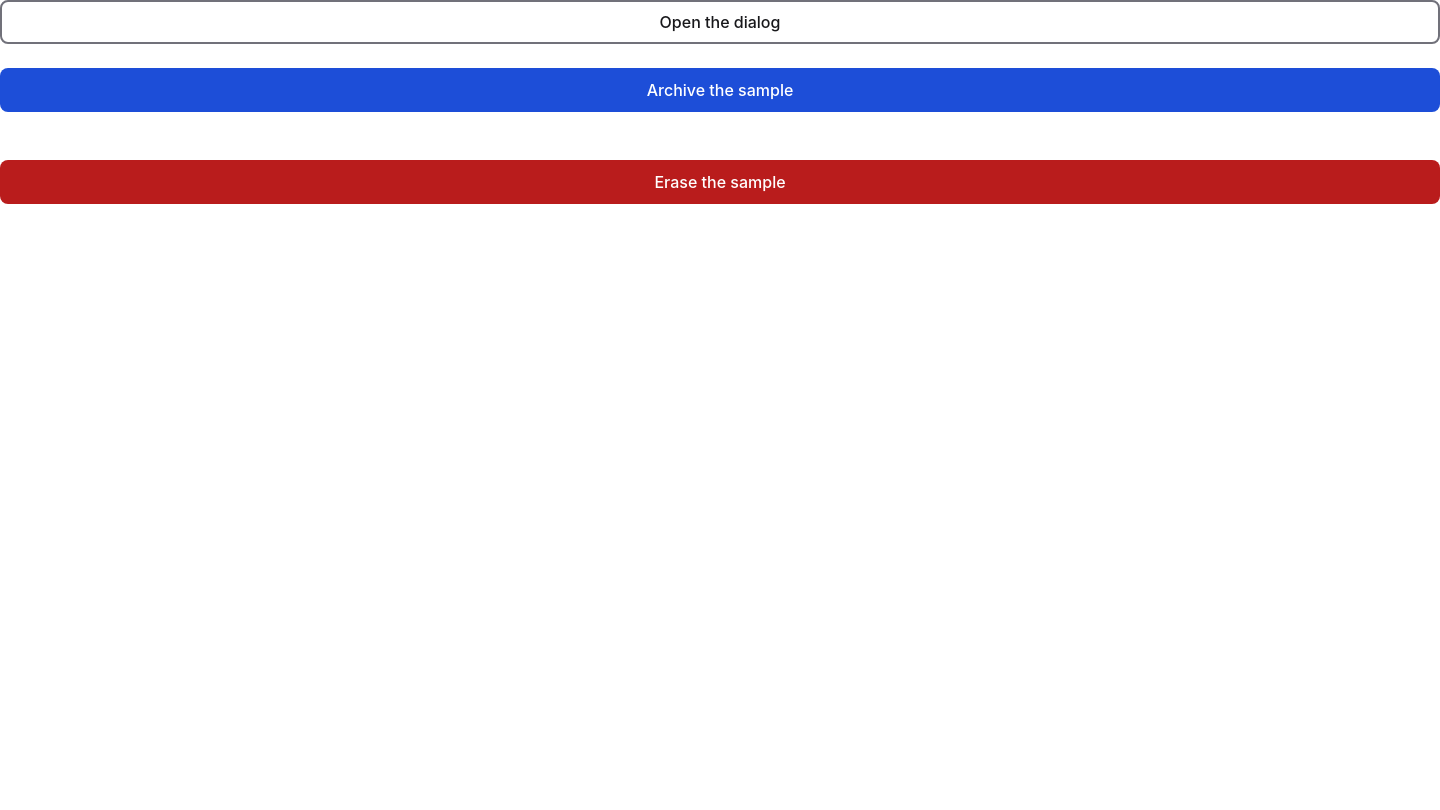
Test case: DialogSamples › runs the erasing action once both of its questions are agreed to
The image size is (1440, 810).
Click the button "Erase the sample".
click(720, 182)  # box [0,160,1439,204]
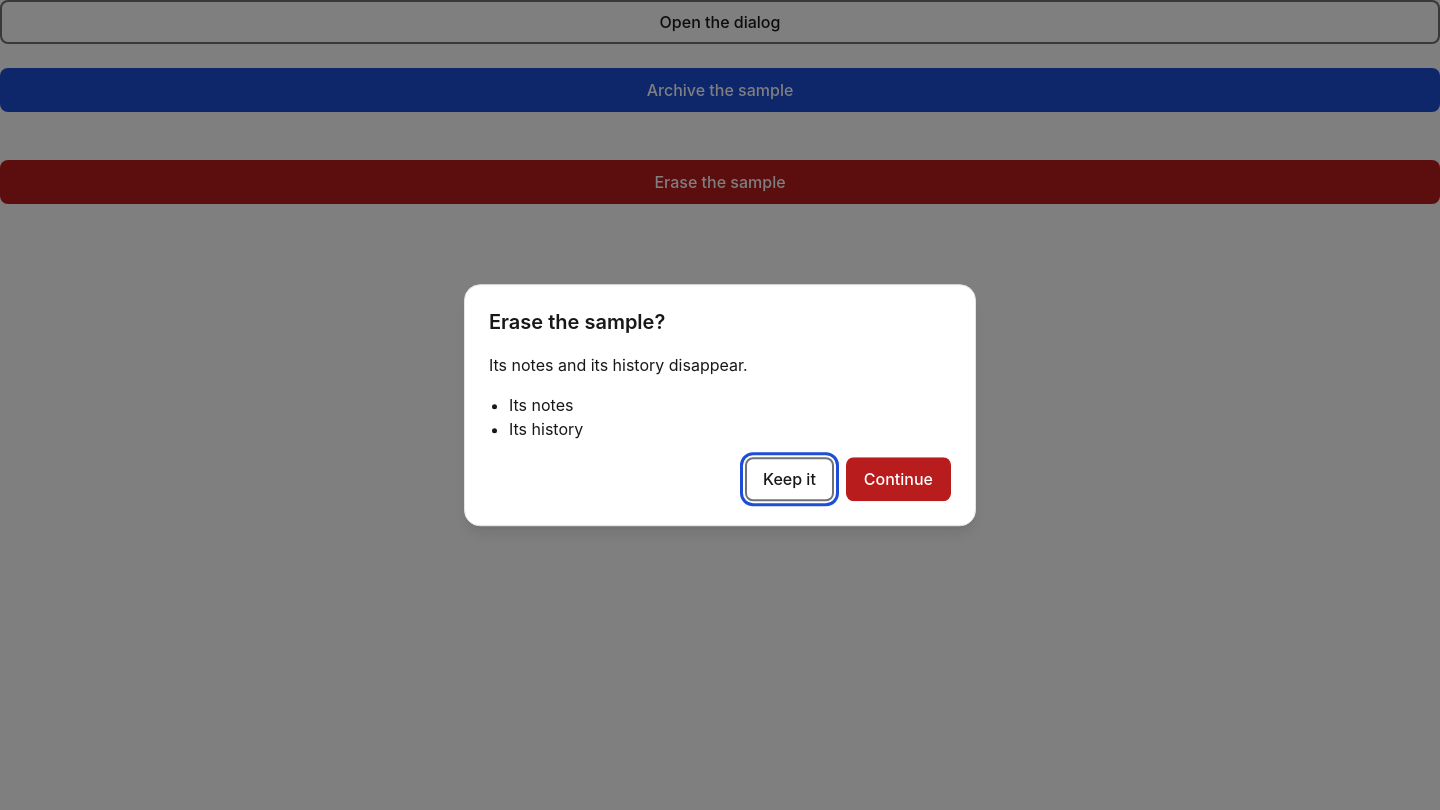
Expected: the list item "Its history" is shown, [509,419,583,439]
Click the button "Continue".
click(898, 479)  # box [846,457,951,501]
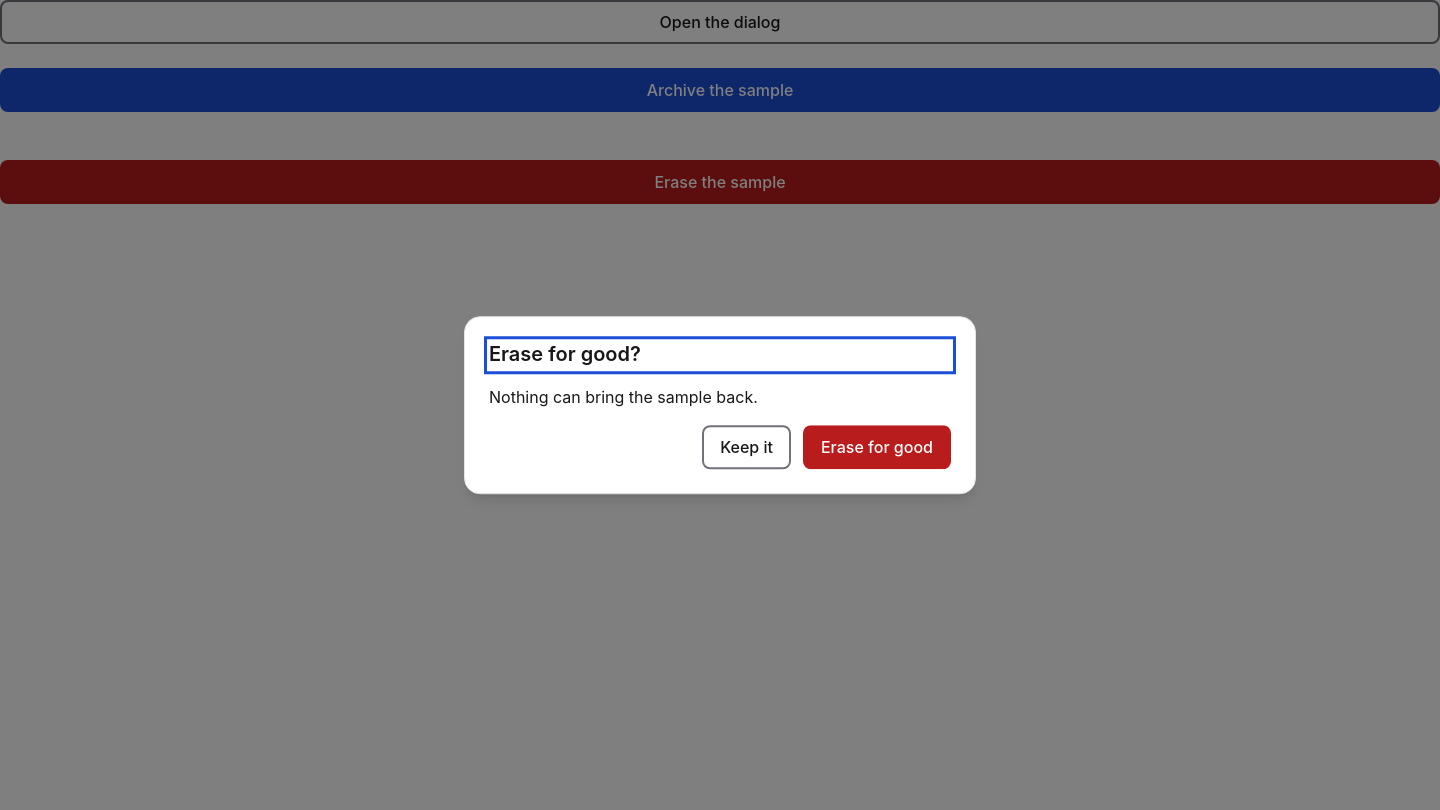
Click the button "Erase for good".
click(877, 447)  # box [803,425,951,469]
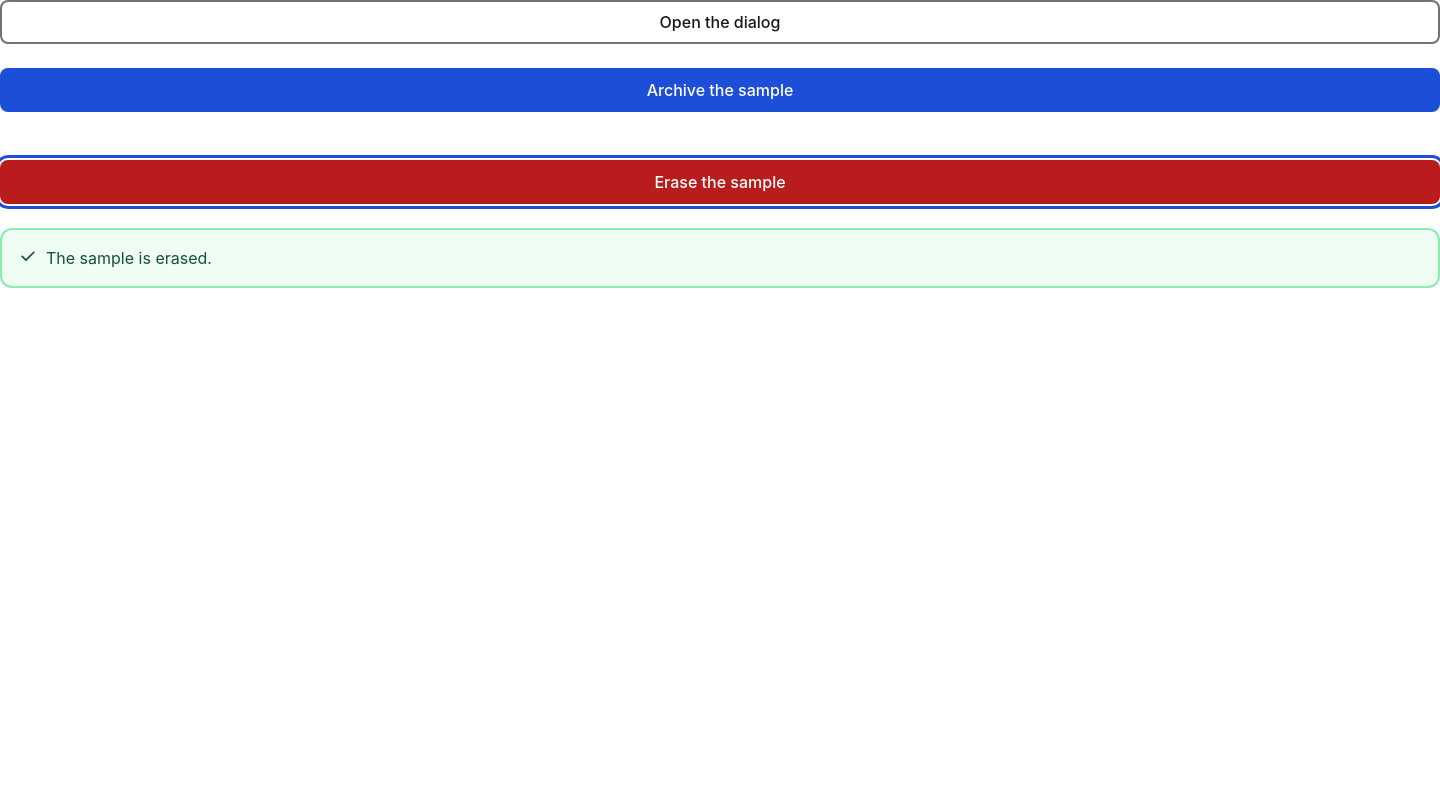
Expected: the text "The sample is erased." is shown, [46,246,212,270]
